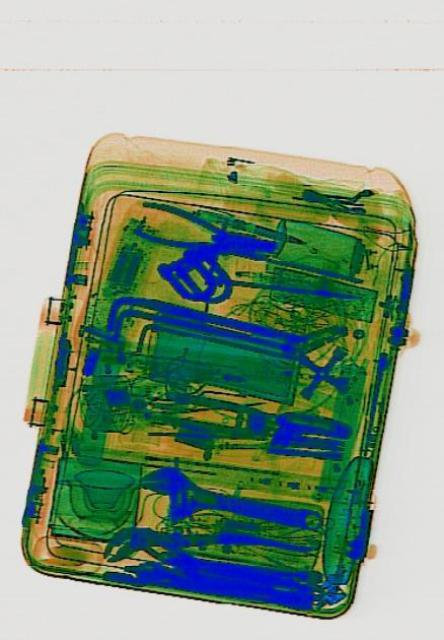Pliers: (162, 386, 349, 452), (133, 195, 275, 271)
Wrench: (136, 457, 324, 551)
